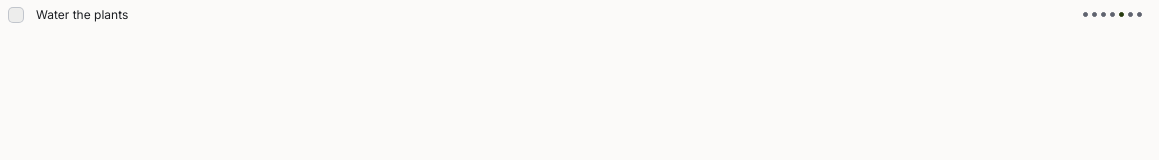
Test case: recurring task completion in a week column › renders the checkbox from the same date it writes
Click the button with test id "item-complete-button".
click(16, 14)  # box [8, 6, 24, 22]
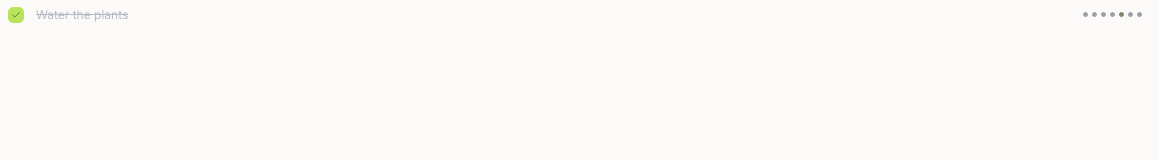
Expected: the button with test id "item-card" has attribute data-completed="true", [8, 6, 1142, 22]
